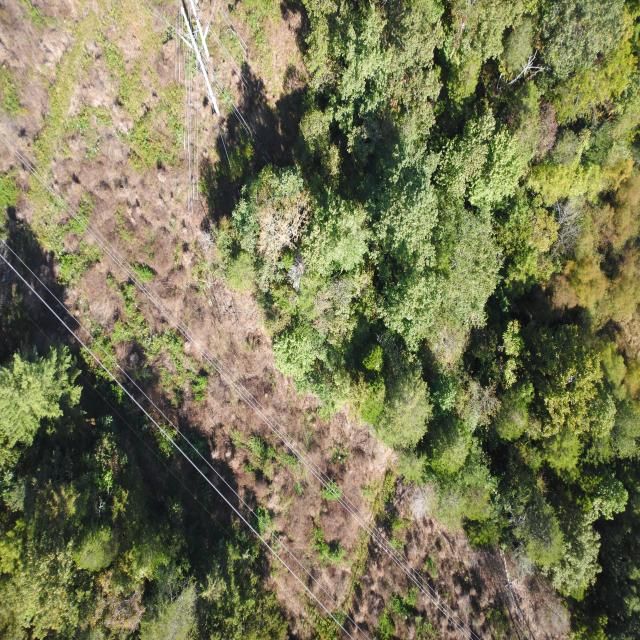Area of Interest: (217, 0, 627, 584), (10, 364, 269, 623)
